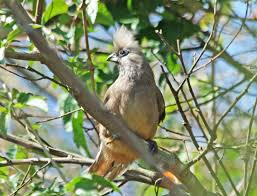target: (76, 19, 173, 183)
